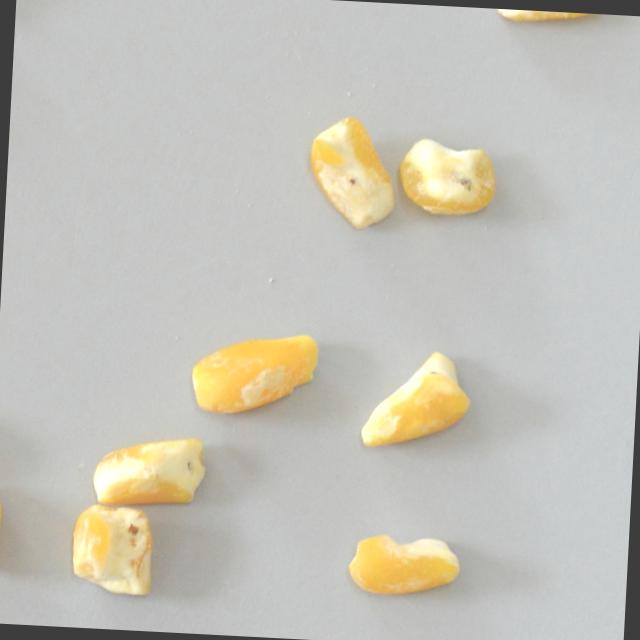dañado: (186, 321, 324, 423), (66, 499, 161, 602), (344, 524, 467, 603), (394, 133, 502, 220)
estandar: (0, 476, 8, 578)
punto_negro: (354, 344, 477, 458), (304, 109, 403, 236), (90, 429, 211, 511), (490, 9, 611, 30)
